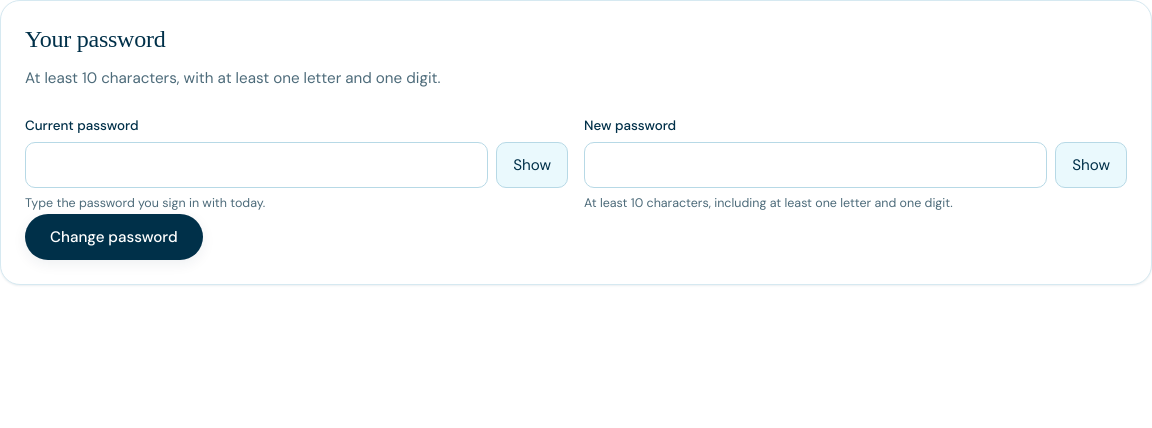
Scenario: changing a password › refuses a new password that does not meet the rule, and changes nothing
The image size is (1152, 428).
Type "Indoora-2026" into the password field labelled "Current password". click: [257, 165]
box: [25, 142, 488, 188]
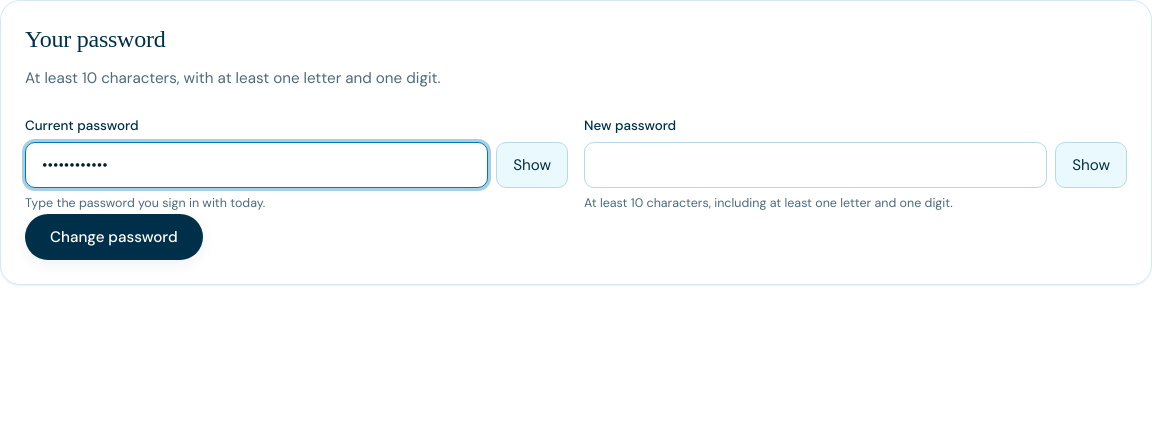
Type "short" into the password field labelled "New password". click: [816, 165]
box: [584, 142, 1047, 188]
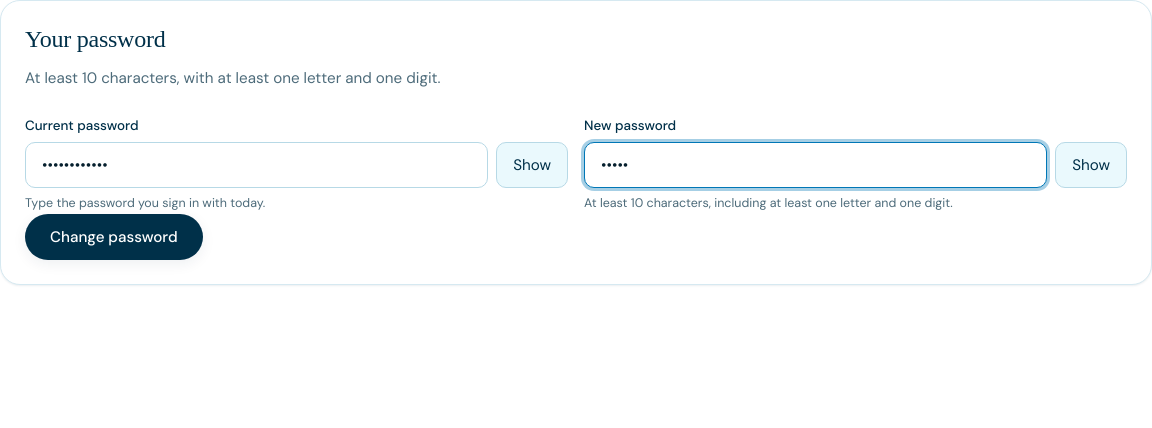
Click the button "Change password". click: [114, 237]
box: [25, 214, 203, 260]
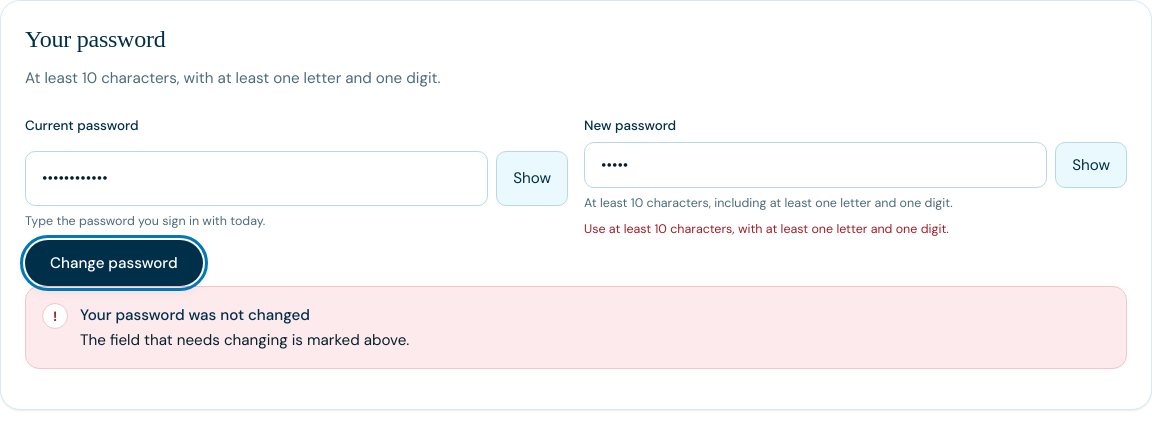
Expected: the text "Use at least 10 characters, with at least one letter and one digit." is shown, [584, 221, 949, 237]
Expected: the text "Your password was not changed" is shown, [80, 305, 310, 325]
